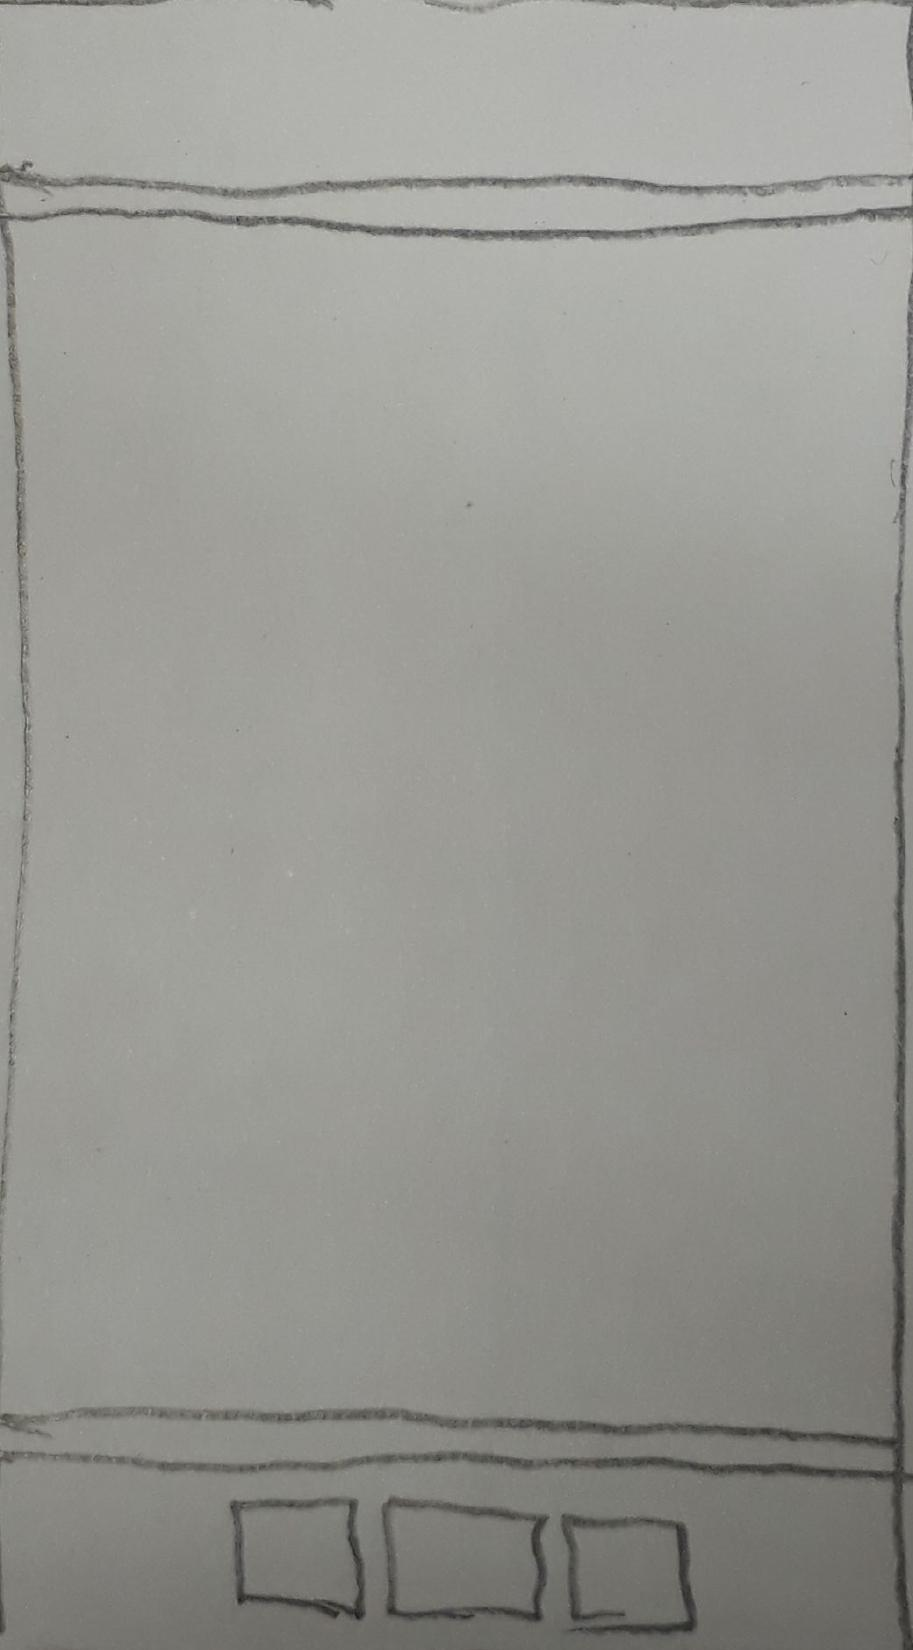Screen: (2, 2, 907, 1643)
